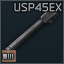HK USP Expert .45 ACP barrel: (0, 0, 64, 64)
